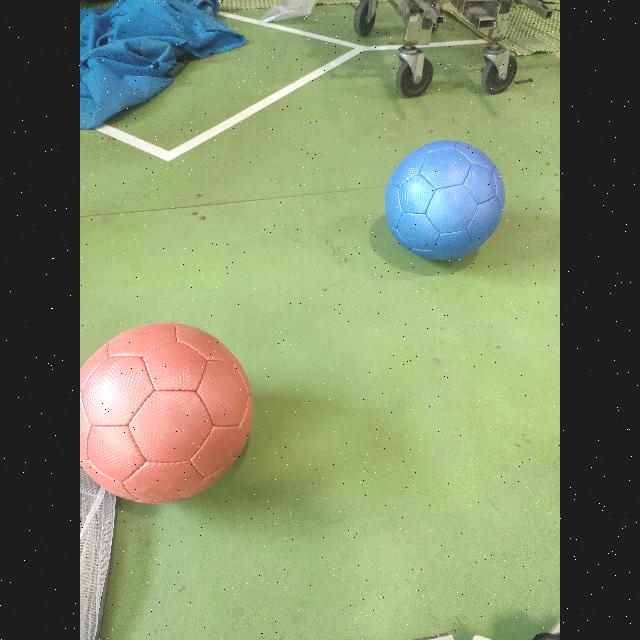B: (384, 141, 506, 266)
R: (80, 323, 255, 507)
